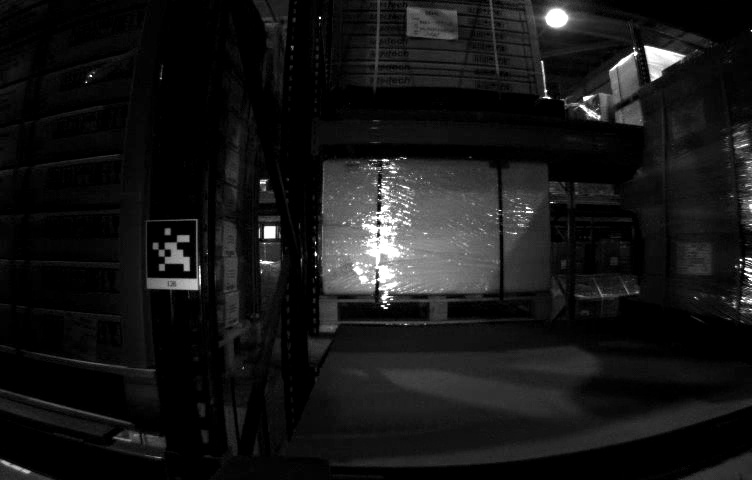True Barcode: (63, 312, 98, 360)
